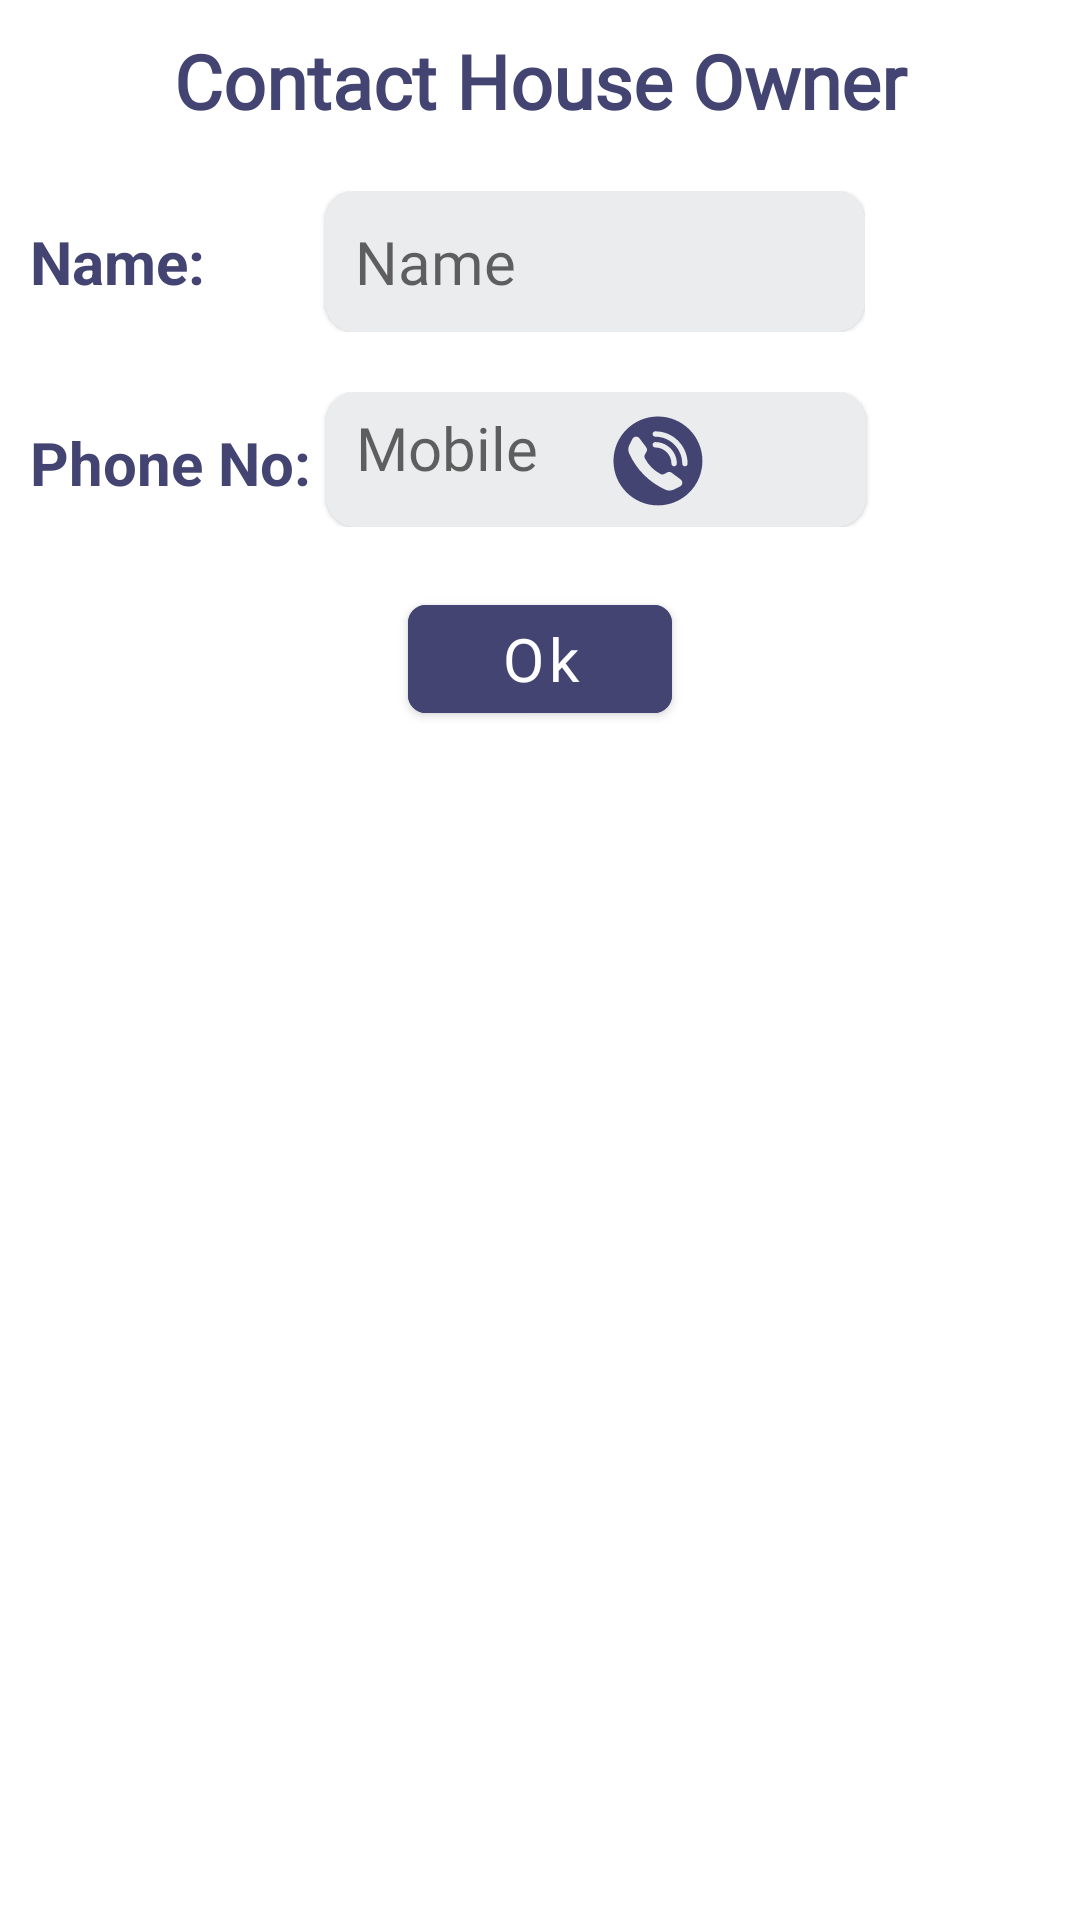

Screen size 1080w x 1920h. Icon name, then its center in pixels as [x,y]:
phone call: [658,461]
